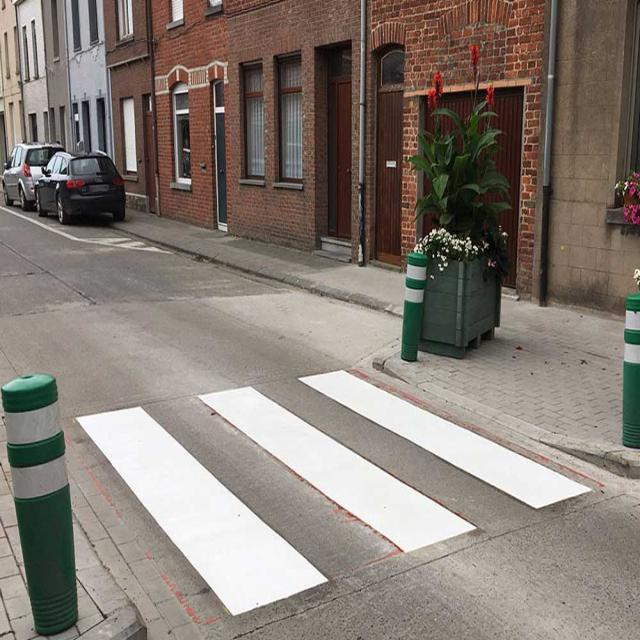crosswalk: (64, 365, 619, 637)
